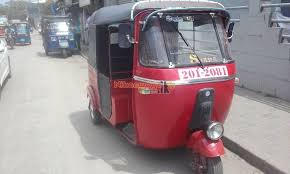tuk tuk: (83, 1, 244, 174), (41, 15, 77, 57), (15, 21, 32, 45)
